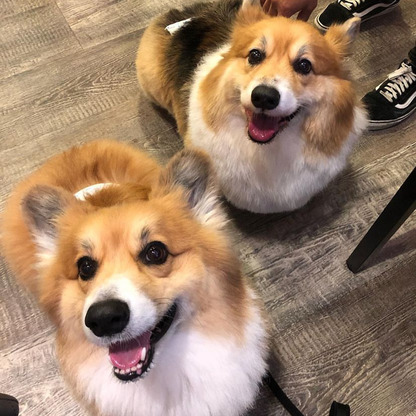Corgi: (9, 157, 236, 409), (152, 14, 377, 223)
